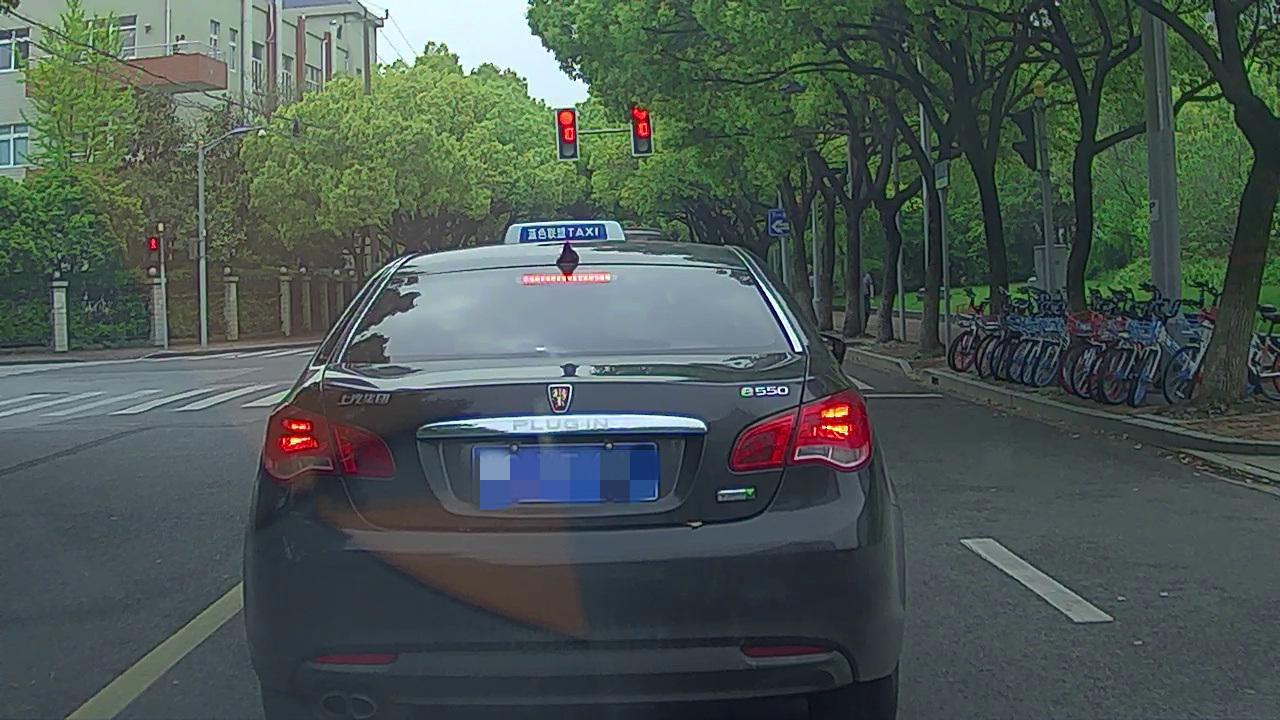traffic_light: (557, 108, 577, 159), (633, 107, 653, 154)
